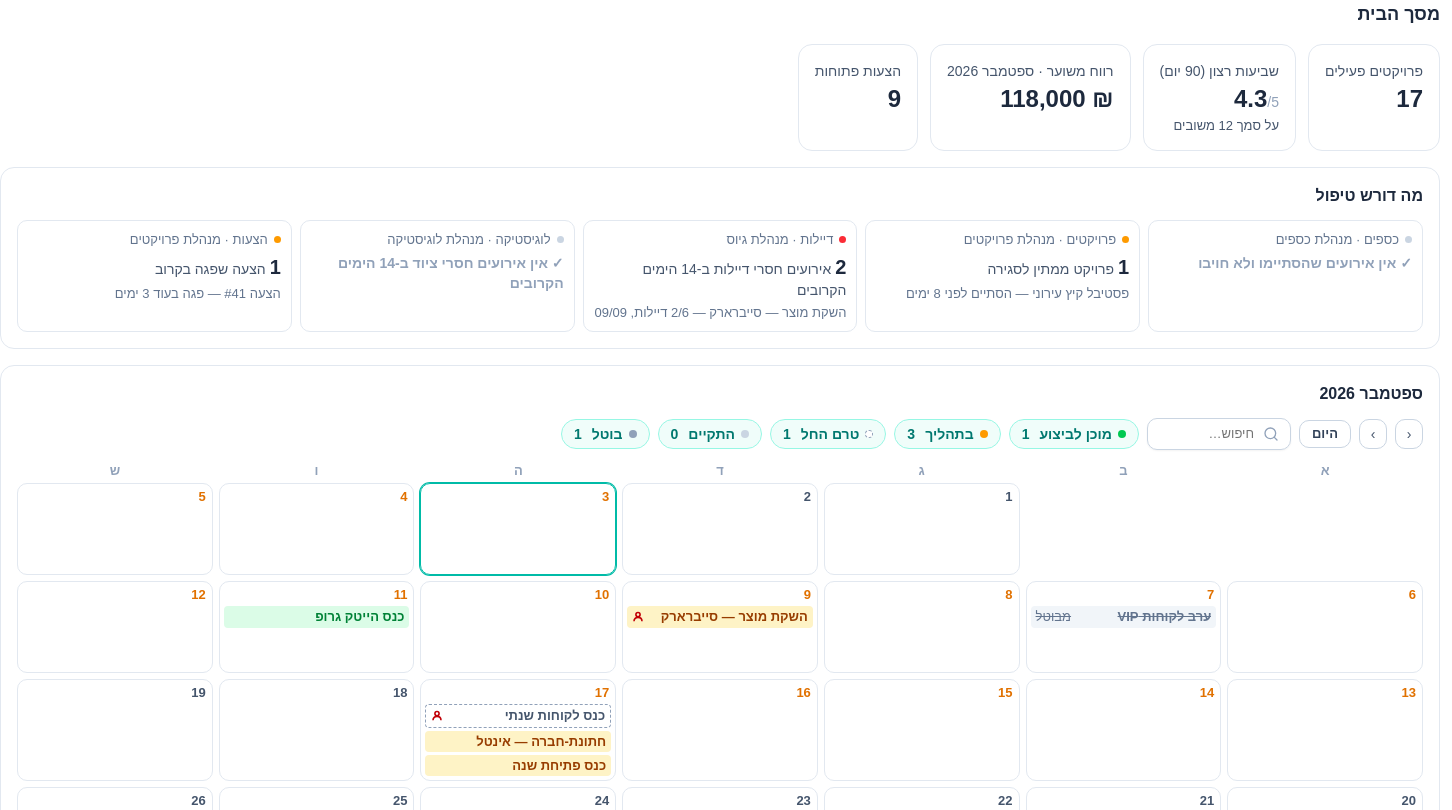
Test: DashboardPage — לוח החודש › חיפוש "כנס" משאיר רק צ׳יפים תואמי-שם/לקוח
Expected: the element with test id "kpi-active" is shown, x1=1308 y1=44 x2=1440 y2=151
Type "כנס" into the field with test id "dashboard-cal-search".
click(1219, 434); type("כנס")  # box x1=1147 y1=418 x2=1291 y2=450
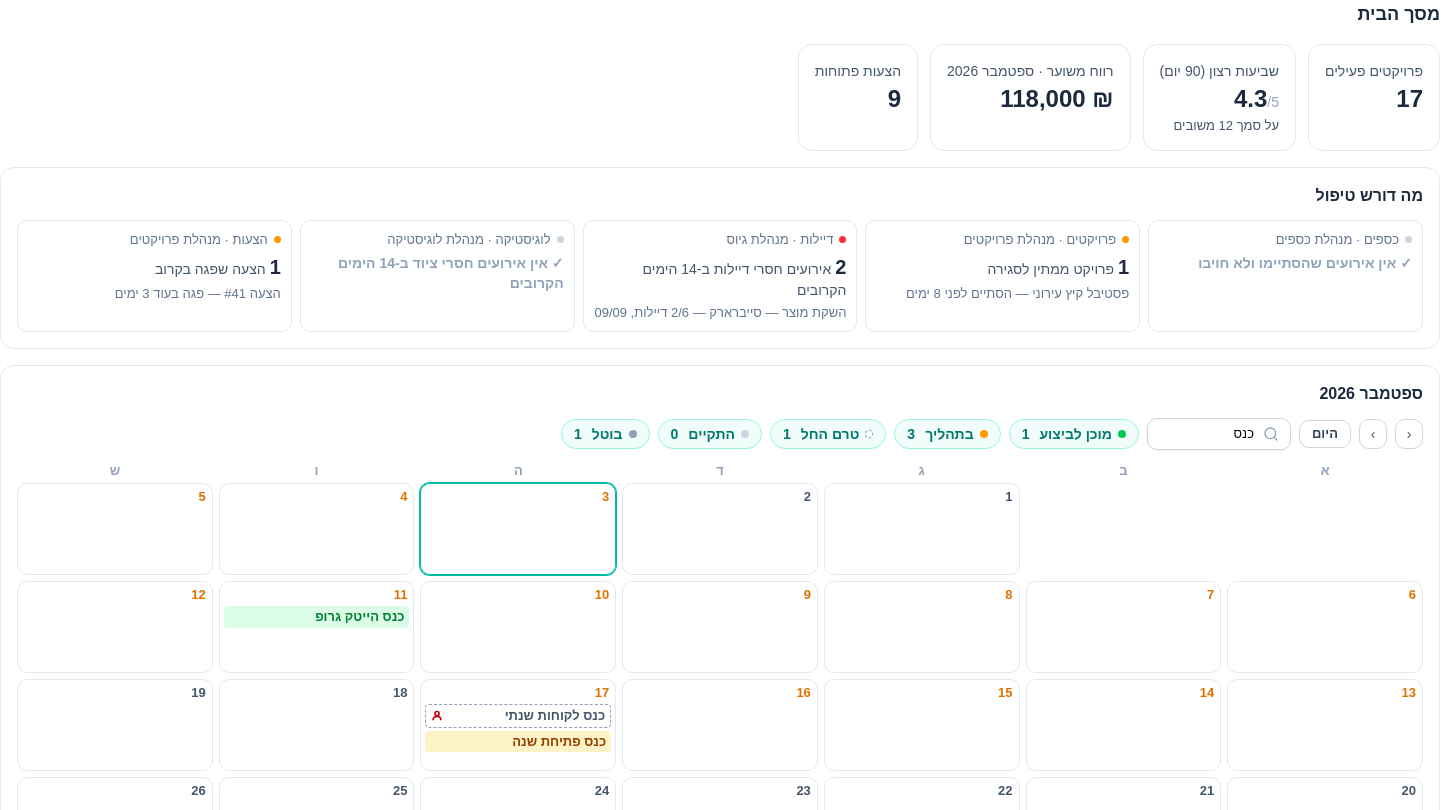
Expected: the link with test id "dashboard-chip-202" is shown, x1=224 y1=606 x2=409 y2=628
Result: the link with test id "dashboard-chip-201" is gone
